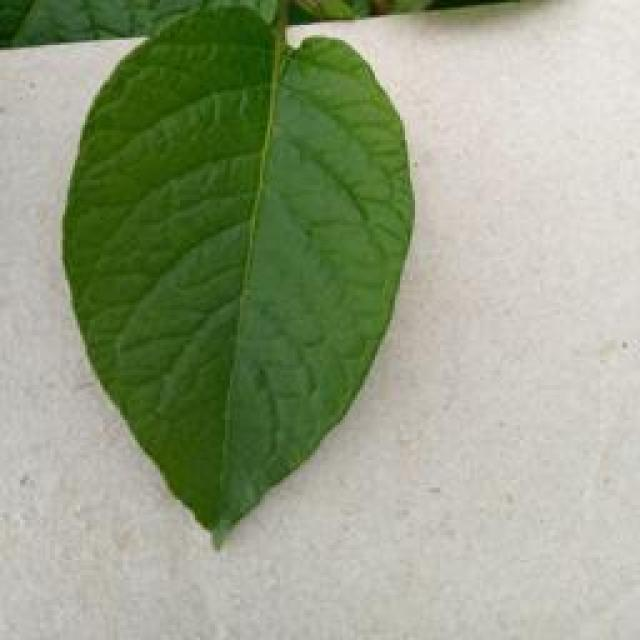healthy: (55, 2, 420, 552)
